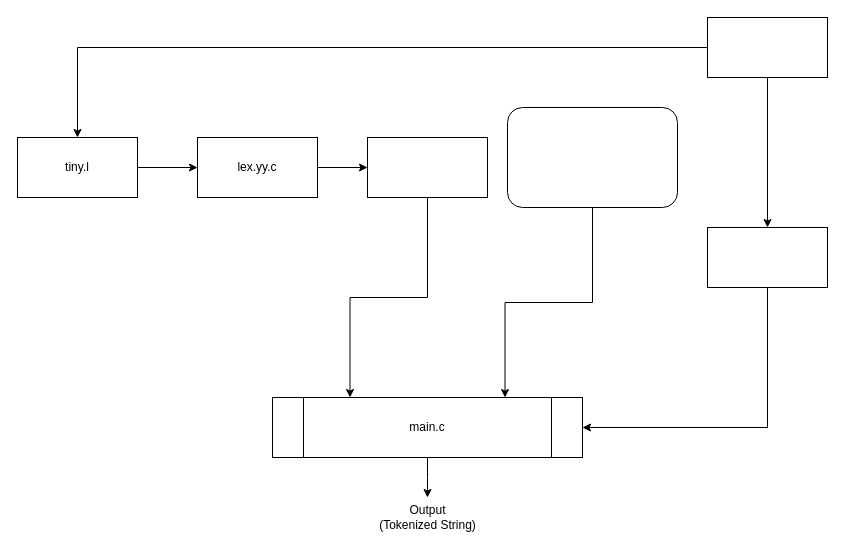
Some shapes in this 845 by 555 pixel diagram are drawn without their labels. Each missing label, with the box of its shape:
globals.h: (706, 16, 828, 78)
yylex(): (366, 136, 488, 198)
